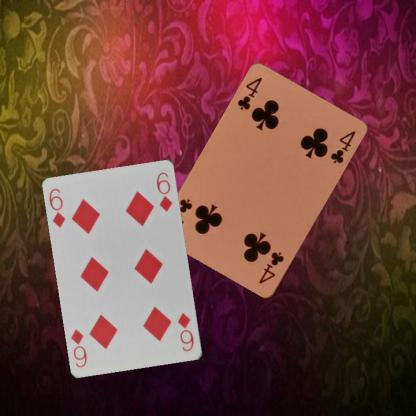4c: (235, 75, 264, 112), (256, 250, 285, 286)
6d: (46, 186, 67, 230), (175, 310, 195, 353)
